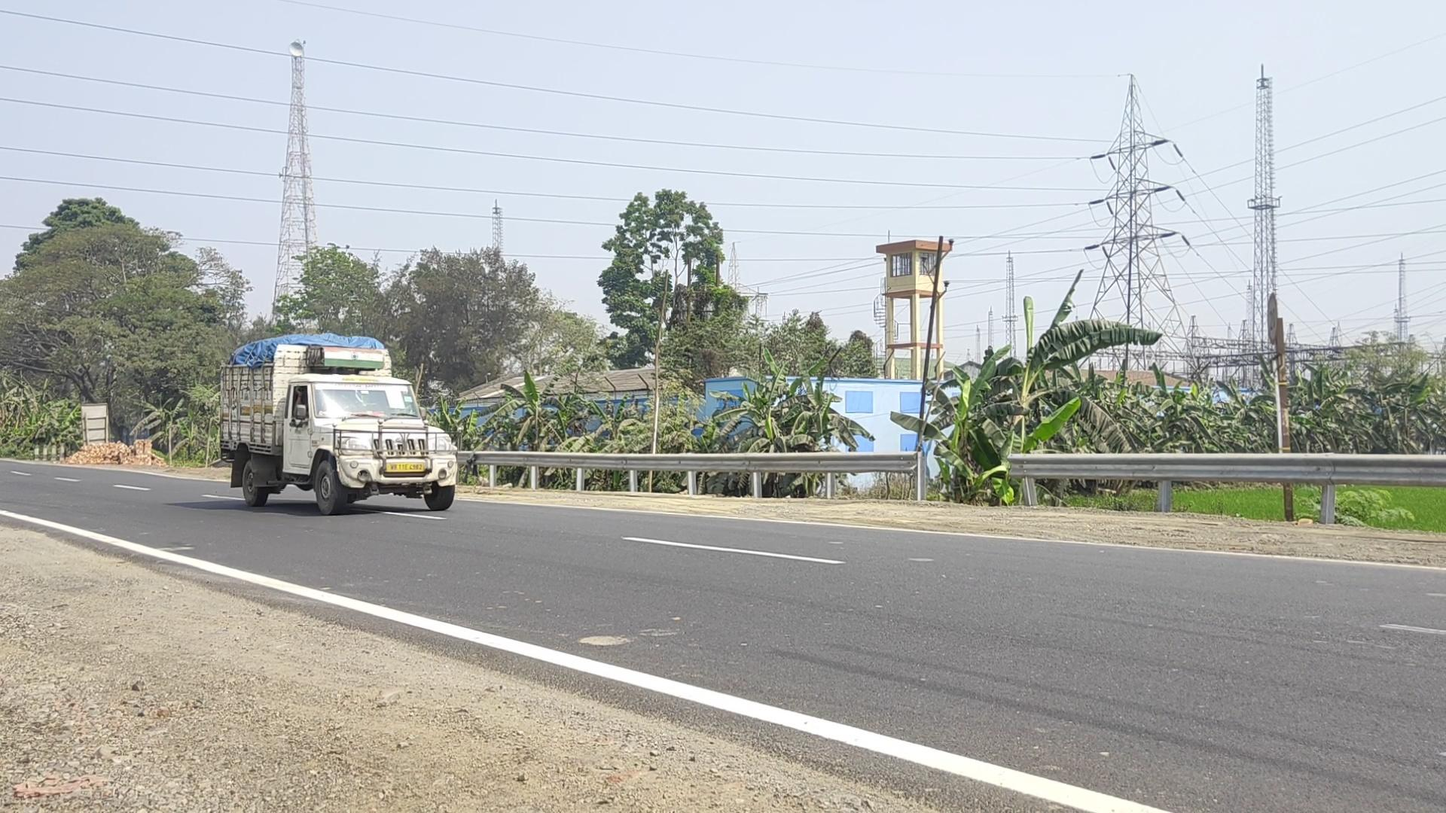van: (219, 333, 462, 516)
